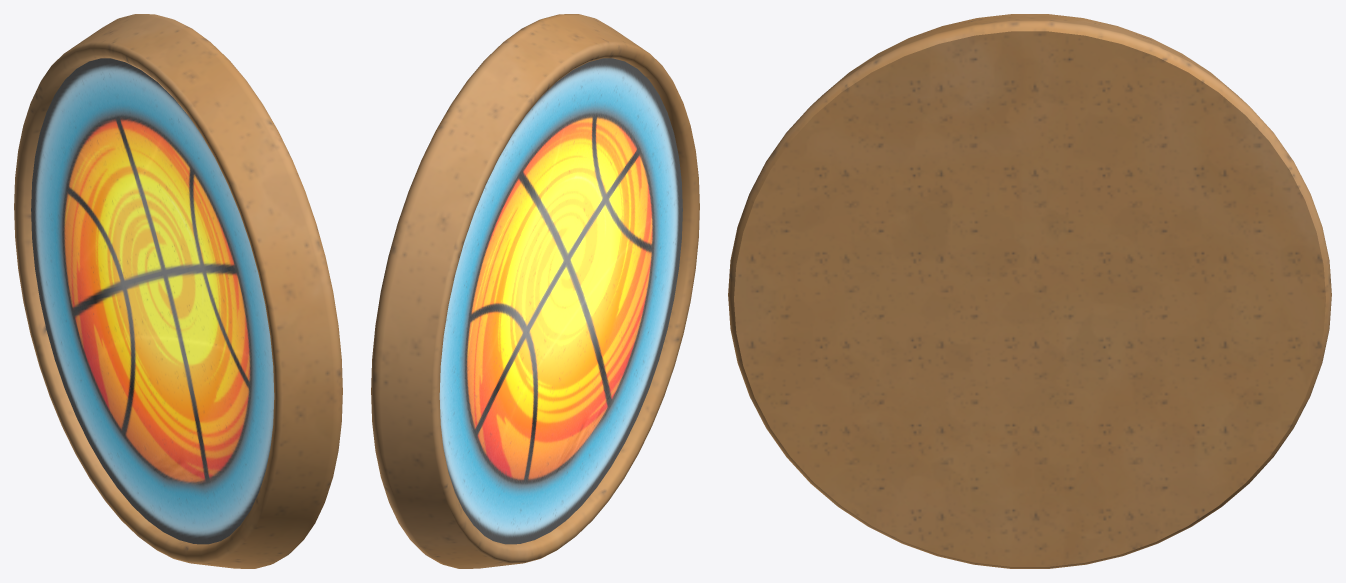
The model's file is SM_GamesSigns_03.fbx.
3 views of the same model, side by side, from view 1: azimuth 30°, elevation 25°; view 2: azimuth 150°, elevation 25°; view 3: azimuth 270°, elevation 25° (orthographic). The views are drawn at different scales.
Parts seen in each view (by area): view 1: SM_GamesSigns_03_LOD0; view 2: SM_GamesSigns_03_LOD0; view 3: SM_GamesSigns_03_LOD0.
Part boxes in pixels (x1=…): SM_GamesSigns_03_LOD0: x1=14, y1=14, x2=342, y2=568; SM_GamesSigns_03_LOD0: x1=371, y1=14, x2=699, y2=568; SM_GamesSigns_03_LOD0: x1=728, y1=14, x2=1331, y2=568.
Bounding box in the file's own units: 11.97 × 102 × 102.
1 material, 1 textured.
